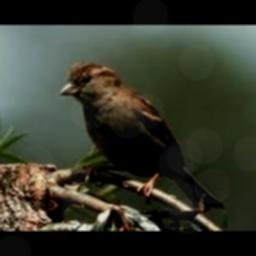Sparrow: (60, 60, 223, 213)
